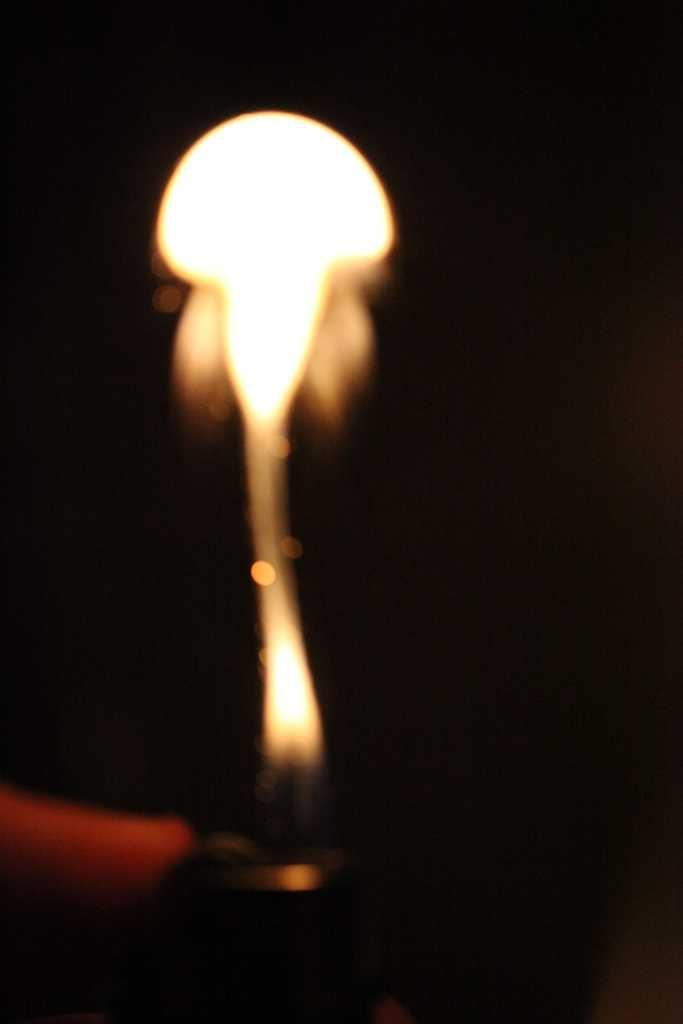fire: (185, 110, 390, 375), (262, 545, 322, 770)
